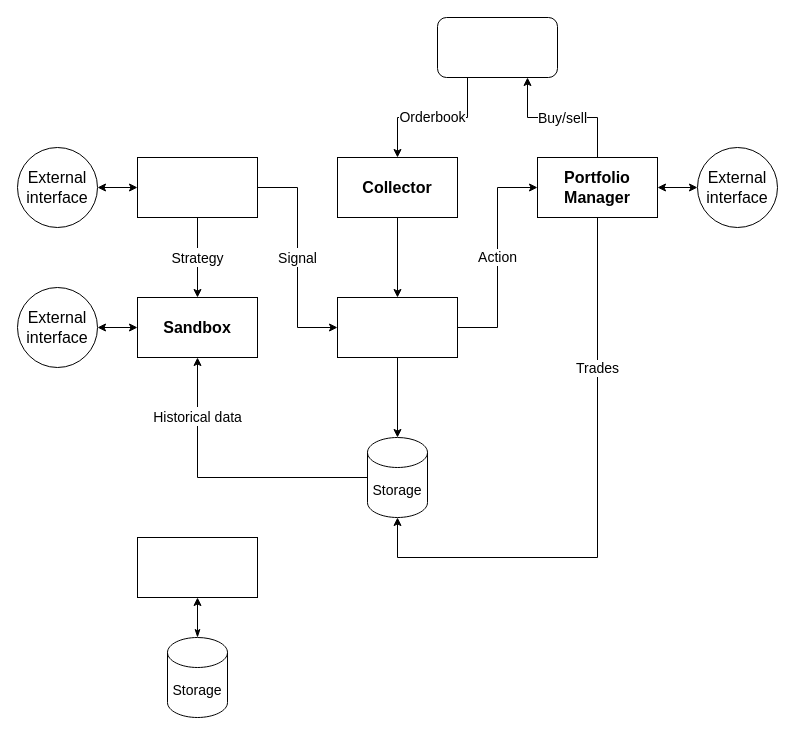
The diagram is 795 pixels wide and 735 high, and some of its shapes have lost their labels. The centre of each missing label's shape, as x and y in pixels:
Exchanges: the point at 497,47
Signal Builder: the point at 197,187
Signal Processor: the point at 397,327
Static Data Manager: the point at 197,567
